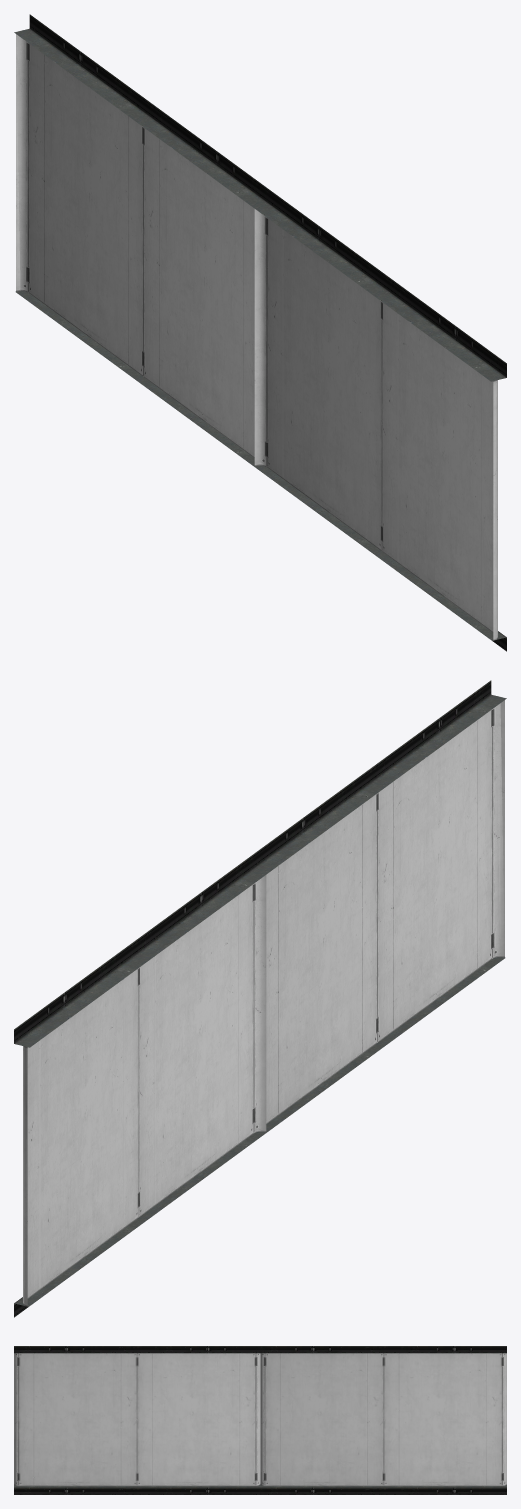
File: Neon_Wall_12x4_01B.FBX
The picture shows the model from 3 angles, top to bottom: view 1: azimuth 30°, elevation 25°; view 2: azimuth 150°, elevation 25°; view 3: azimuth 270°, elevation 25°; orthographic projection. The views are drawn at different scales.
Visible parts, largest first — view 1: Neon_Wall_12x4_01B; view 2: Neon_Wall_12x4_01B; view 3: Neon_Wall_12x4_01B.
Part boxes in pixels (<box>): Neon_Wall_12x4_01B: <box>14,14,506,651</box>; Neon_Wall_12x4_01B: <box>14,680,506,1317</box>; Neon_Wall_12x4_01B: <box>14,1346,506,1494</box>.
Bounding box in the file's own units: 0.2298 × 4 × 12.
